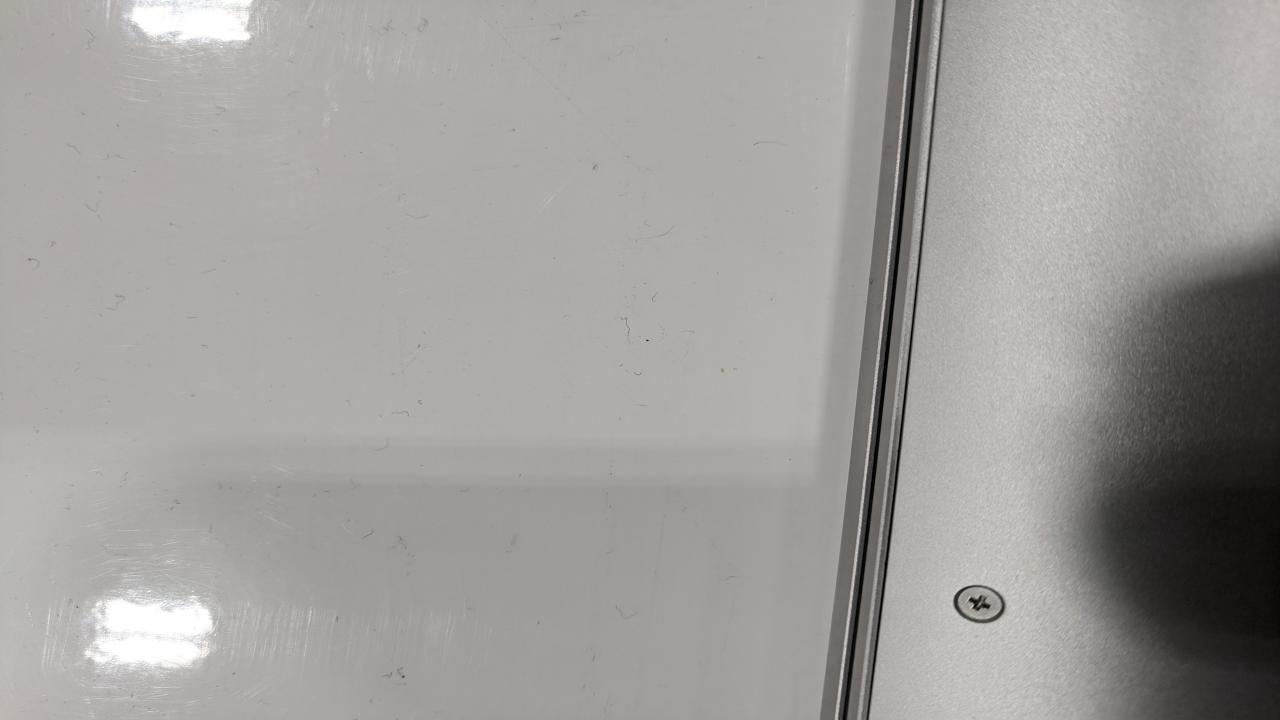CRS: (949, 583, 1011, 625)
